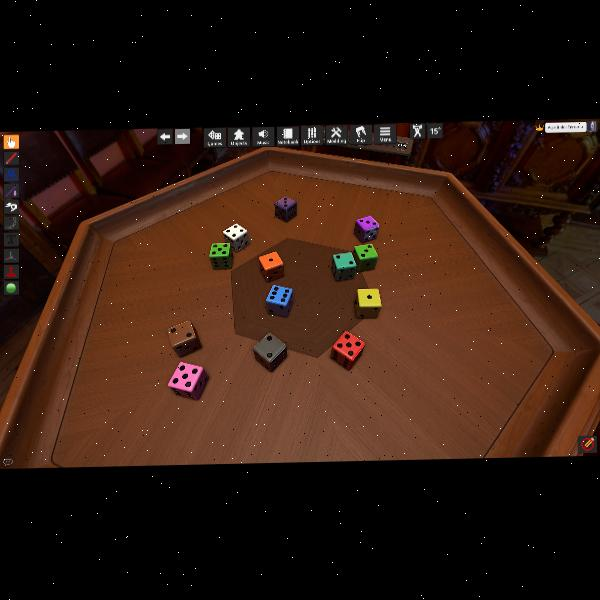d6: (168, 360, 209, 401), (252, 330, 290, 374), (330, 329, 364, 369), (168, 320, 202, 356), (266, 283, 294, 317), (354, 287, 381, 319), (258, 250, 284, 282), (222, 222, 248, 253), (353, 242, 378, 272), (331, 251, 355, 282), (354, 216, 380, 244), (209, 241, 233, 269), (275, 195, 297, 222)
